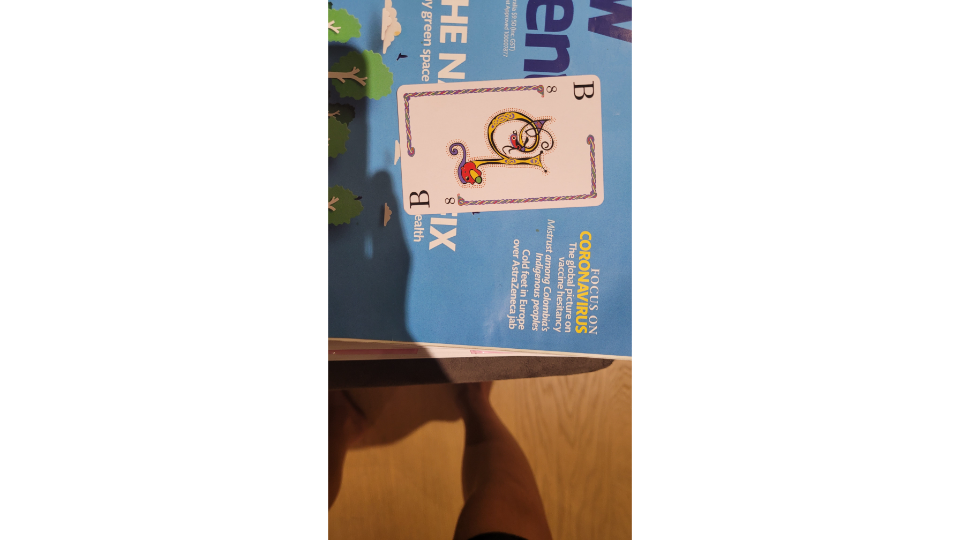B: (394, 73, 608, 216)
